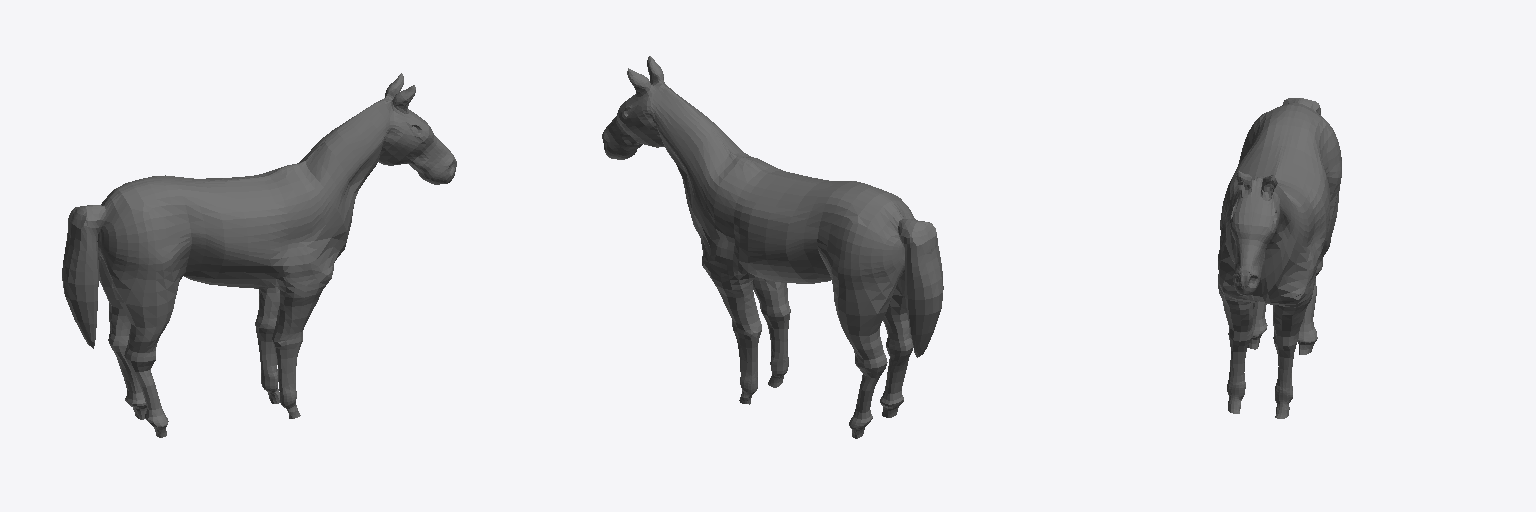
The model's file is mikkis_horse_v4.obj.
The picture shows the model from 3 angles: view 1: azimuth 30°, elevation 25°; view 2: azimuth 150°, elevation 25°; view 3: azimuth 270°, elevation 25°; orthographic projection.
Size of the model in its own units: 1.73 by 1.39 by 0.5148.